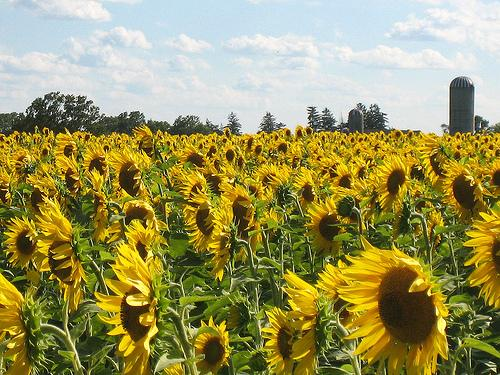sunflower: (343, 243, 458, 375), (100, 257, 170, 375), (281, 273, 332, 375), (39, 205, 84, 298), (0, 272, 39, 375), (463, 212, 500, 310), (189, 317, 234, 375), (223, 186, 264, 248), (443, 165, 489, 220), (183, 201, 226, 259), (2, 214, 44, 270), (262, 308, 297, 375), (307, 200, 348, 250), (377, 158, 414, 205), (111, 151, 149, 193), (332, 165, 364, 196), (61, 163, 83, 194), (296, 175, 315, 203), (57, 139, 78, 161), (75, 255, 79, 255)
